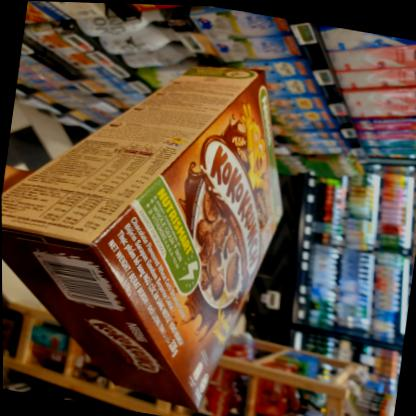i: (0, 26, 304, 415)
